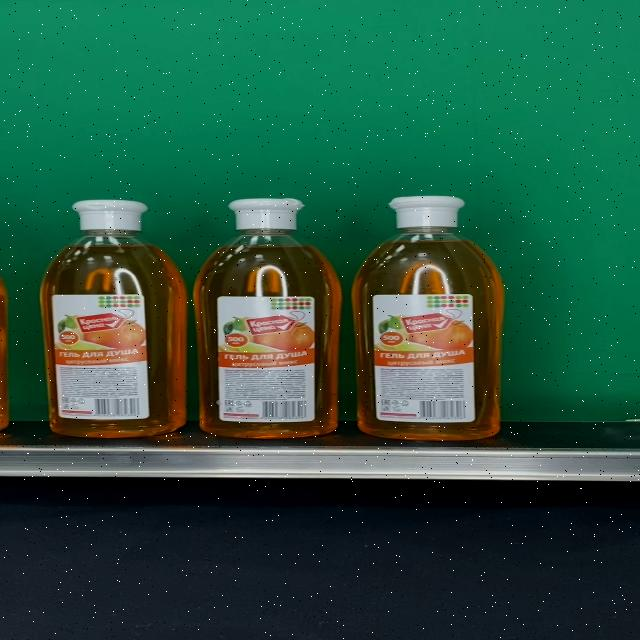Bottle: (352, 196, 505, 440), (192, 198, 342, 438), (41, 200, 188, 438)
Cap: (388, 196, 465, 229), (227, 198, 305, 230), (73, 199, 148, 231)
